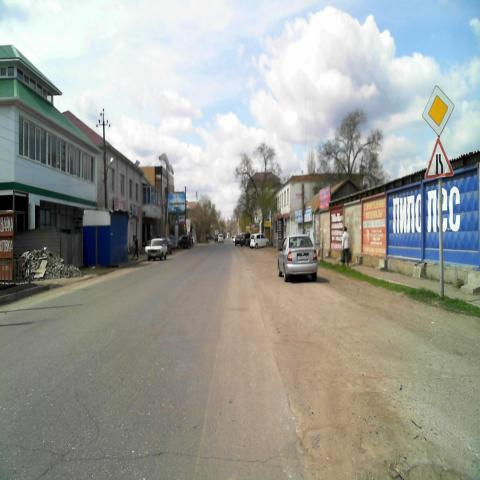1_20_2: (421, 138, 455, 178)
2_1: (421, 85, 454, 137)
